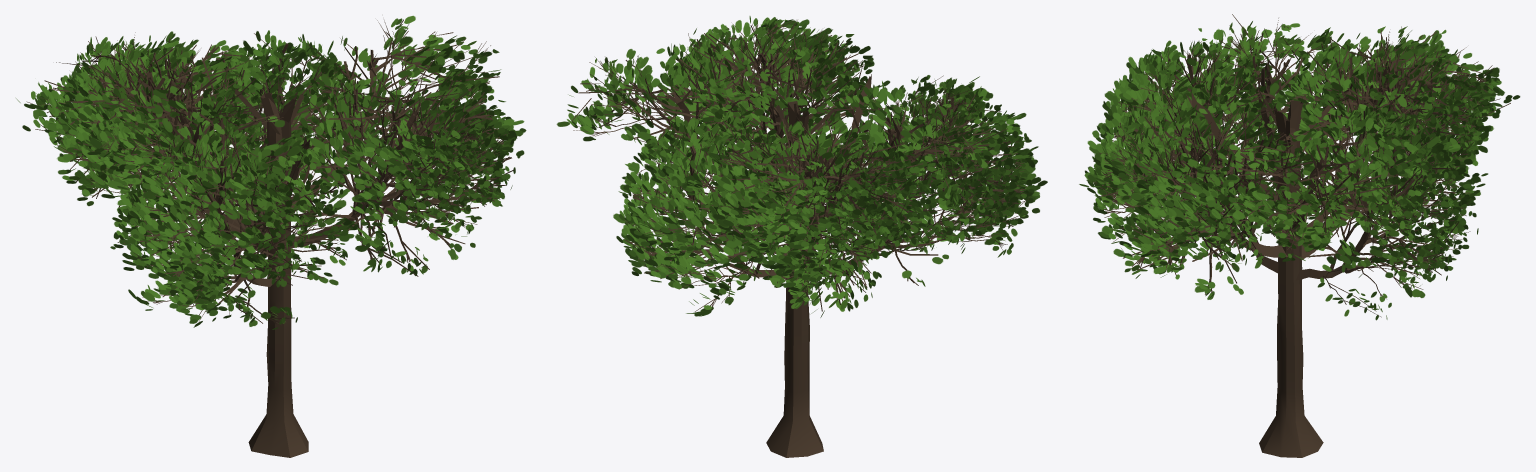
3 views of the same model, side by side, from view 1: azimuth 30°, elevation 25°; view 2: azimuth 150°, elevation 25°; view 3: azimuth 270°, elevation 25° (orthographic). The views are drawn at different scales.
Visible parts, largest first — view 1: oak 01.001_trunk_Mat.001_0.009; view 2: oak 01.001_trunk_Mat.001_0.009; view 3: oak 01.001_trunk_Mat.001_0.009.
Part boxes in pixels (bbox=[...]): oak 01.001_trunk_Mat.001_0.009: bbox=[16, 15, 526, 457]; oak 01.001_trunk_Mat.001_0.009: bbox=[556, 16, 1047, 457]; oak 01.001_trunk_Mat.001_0.009: bbox=[1079, 14, 1520, 457].
Bounding box in the file's own units: 5.51 × 4.69 × 5.27.
2 materials, 1 textured.
